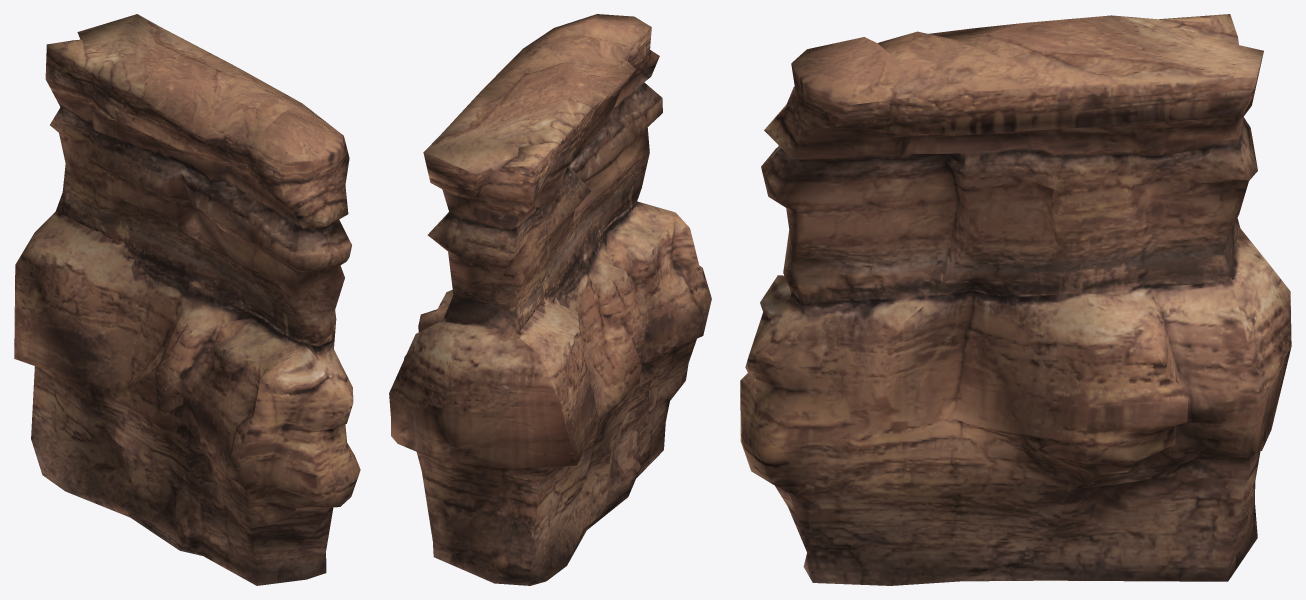
File: Mesh_Cliff_Fin_01_AO.fbx
3 renders of one model, left to right at view 1: azimuth 30°, elevation 25°; view 2: azimuth 150°, elevation 25°; view 3: azimuth 270°, elevation 25°, orthographic. The views are drawn at different scales.
Visible parts, largest first — view 1: Mesh_Cliff_Fin_01_AO; view 2: Mesh_Cliff_Fin_01_AO; view 3: Mesh_Cliff_Fin_01_AO.
Part boxes in pixels (<box>): Mesh_Cliff_Fin_01_AO: <box>14,14,360,585</box>; Mesh_Cliff_Fin_01_AO: <box>389,14,711,585</box>; Mesh_Cliff_Fin_01_AO: <box>740,14,1291,585</box>.
Size of the model in its own units: 2666 by 5873 by 5521.
